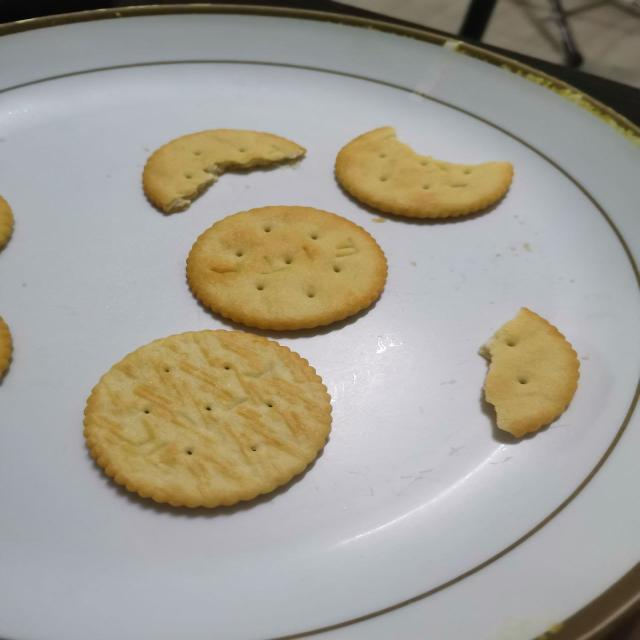broken biscuit: (457, 302, 593, 454), (332, 124, 514, 220), (140, 126, 307, 215)
intact biscuit: (81, 328, 334, 510), (184, 203, 389, 331)
